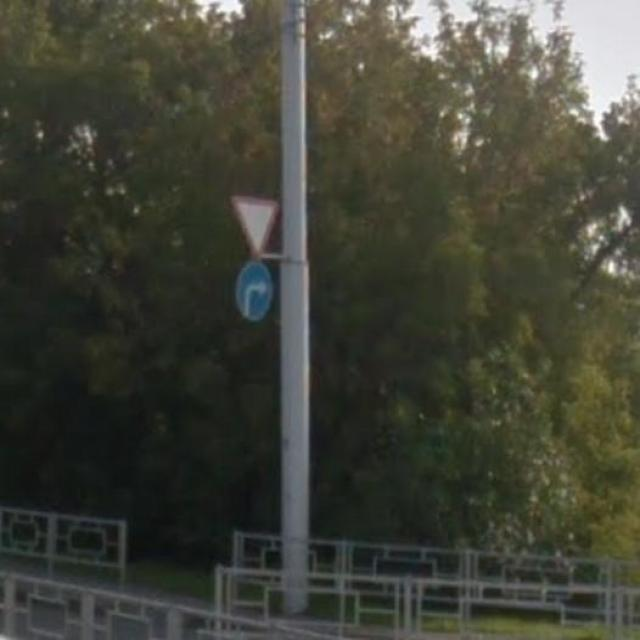Ustap pierwszenstwa: (225, 188, 287, 263)
